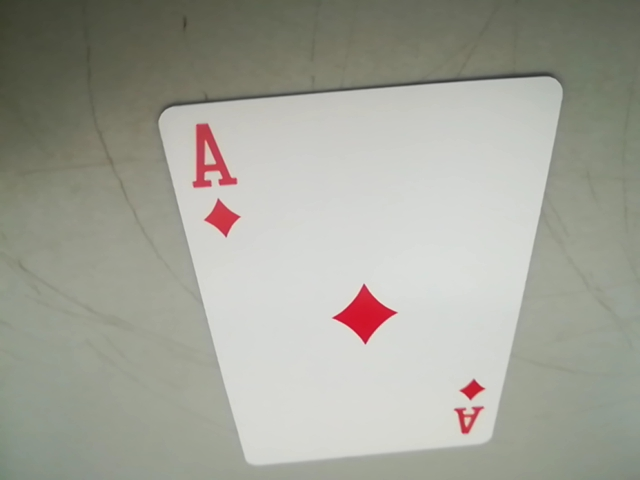fk a: (179, 119, 245, 254), (449, 376, 490, 437)
